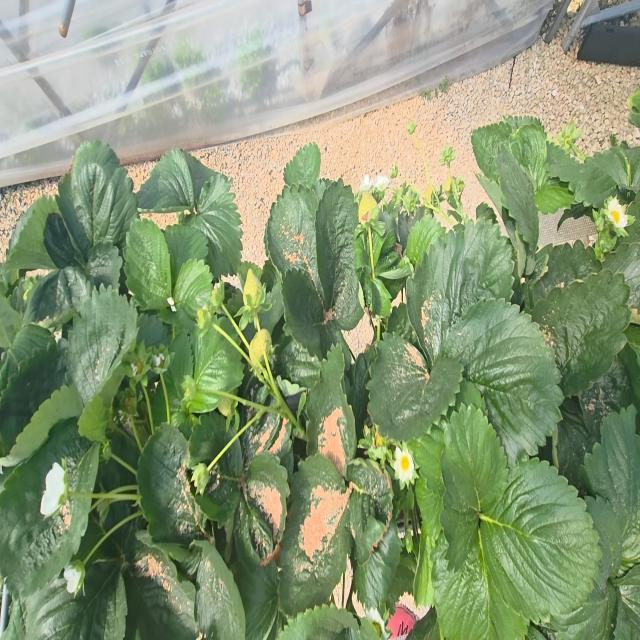Flowers: (40, 463, 66, 516), (392, 447, 415, 489), (366, 607, 389, 639), (604, 198, 628, 228), (63, 565, 84, 594), (359, 174, 374, 193), (374, 175, 389, 190)
Leaves: (441, 299, 563, 465), (481, 459, 601, 621), (0, 421, 99, 599), (406, 220, 513, 361), (532, 271, 630, 397), (280, 455, 351, 615), (441, 405, 508, 571), (367, 332, 462, 440), (551, 496, 621, 639), (4, 560, 127, 639), (56, 141, 137, 258), (432, 542, 529, 639), (66, 288, 137, 404), (138, 424, 203, 545), (315, 180, 364, 330), (124, 543, 199, 639), (233, 450, 289, 572), (0, 350, 64, 449), (307, 346, 356, 475), (585, 409, 640, 517), (265, 184, 320, 290), (191, 540, 245, 639), (190, 174, 242, 274), (124, 218, 172, 309), (497, 146, 539, 250), (349, 464, 392, 564), (282, 268, 326, 359), (26, 267, 95, 322), (138, 149, 197, 212), (194, 328, 244, 393), (164, 223, 208, 282), (471, 120, 512, 181), (165, 329, 193, 409), (404, 215, 445, 267), (283, 143, 321, 190), (191, 394, 219, 412)
Strawberries: (550, 121, 586, 162), (243, 269, 264, 314), (249, 328, 272, 363), (359, 191, 377, 223), (191, 463, 209, 494), (210, 281, 224, 308), (197, 306, 212, 330), (218, 397, 233, 417), (443, 173, 456, 196), (424, 184, 434, 203)
